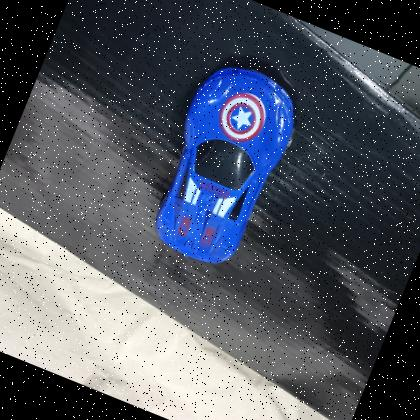Car: (132, 46, 318, 284)
